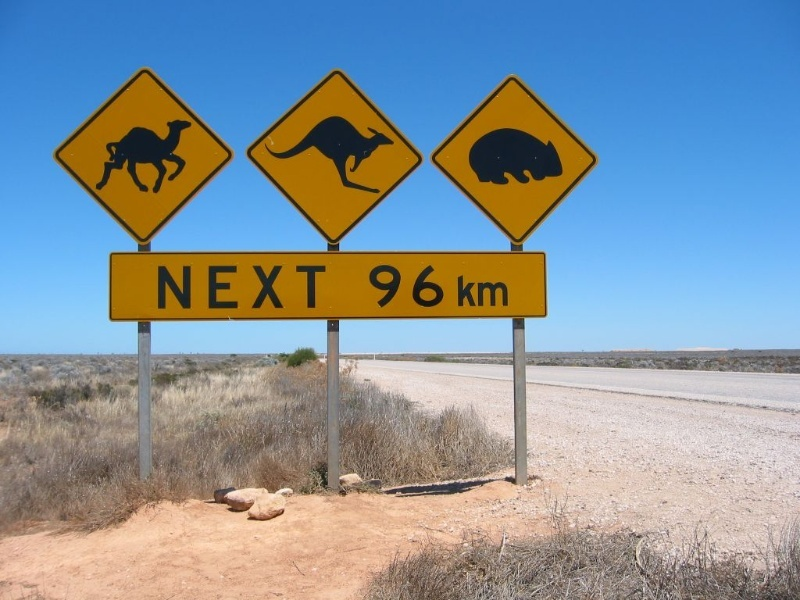text: (161, 265, 176, 310), (177, 265, 192, 310), (193, 265, 208, 310), (209, 265, 224, 310), (225, 265, 240, 310), (241, 265, 256, 310), (257, 265, 272, 310), (273, 265, 288, 310), (289, 265, 304, 310), (305, 265, 320, 310), (369, 264, 384, 308), (385, 264, 400, 308), (401, 264, 416, 308), (417, 264, 432, 308), (433, 264, 446, 308), (465, 274, 480, 308), (481, 274, 496, 308), (497, 274, 509, 308), (321, 265, 326, 310), (458, 274, 464, 308), (157, 265, 160, 310)
